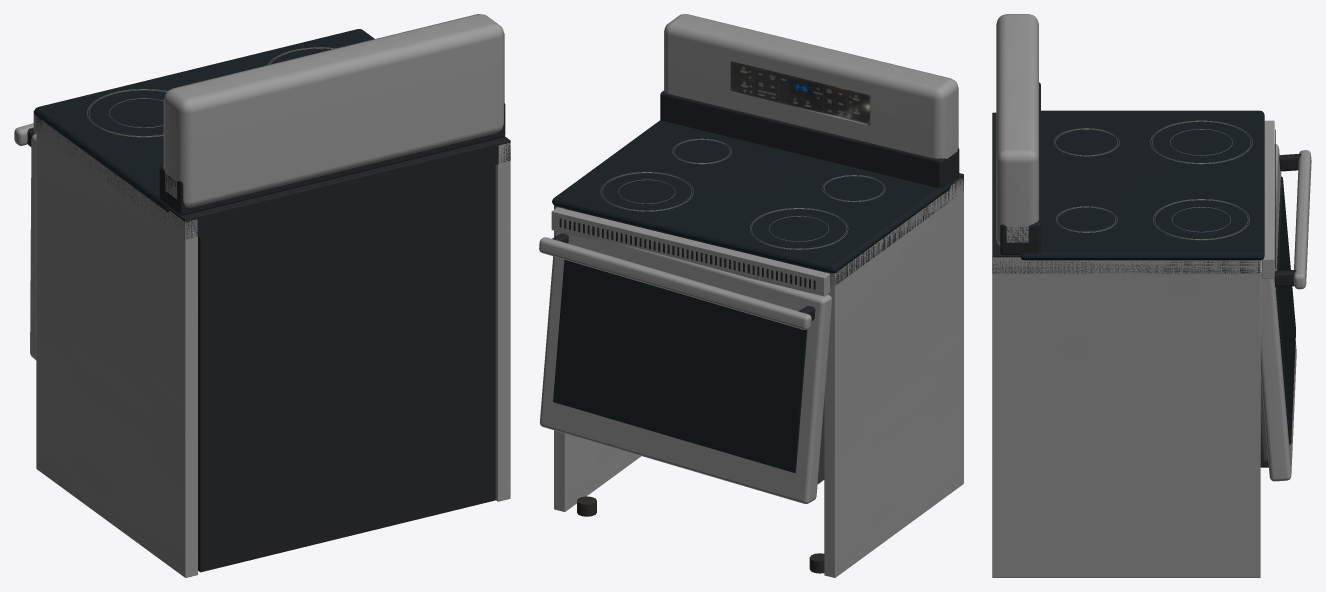
The model's file is range_oven__range_body.glb.
The picture shows the model from 3 angles, left to right: view 1: azimuth 30°, elevation 25°; view 2: azimuth 150°, elevation 25°; view 3: azimuth 270°, elevation 25°; orthographic projection. The views are drawn at different scales.
Visible parts, largest first — view 1: body, oven_main_door; view 2: body, oven_main_door; view 3: body, oven_main_door.
Boxes of the visible parts, x1,y1,x2,y2 form: body: (33, 14, 510, 577); oven_main_door: (14, 123, 36, 360); body: (551, 14, 963, 577); oven_main_door: (539, 231, 831, 503); body: (992, 14, 1275, 577); oven_main_door: (1260, 144, 1311, 481).
Bounding box in the file's own units: 0.88 × 1.22 × 0.8207.
9 materials, 3 textured.
